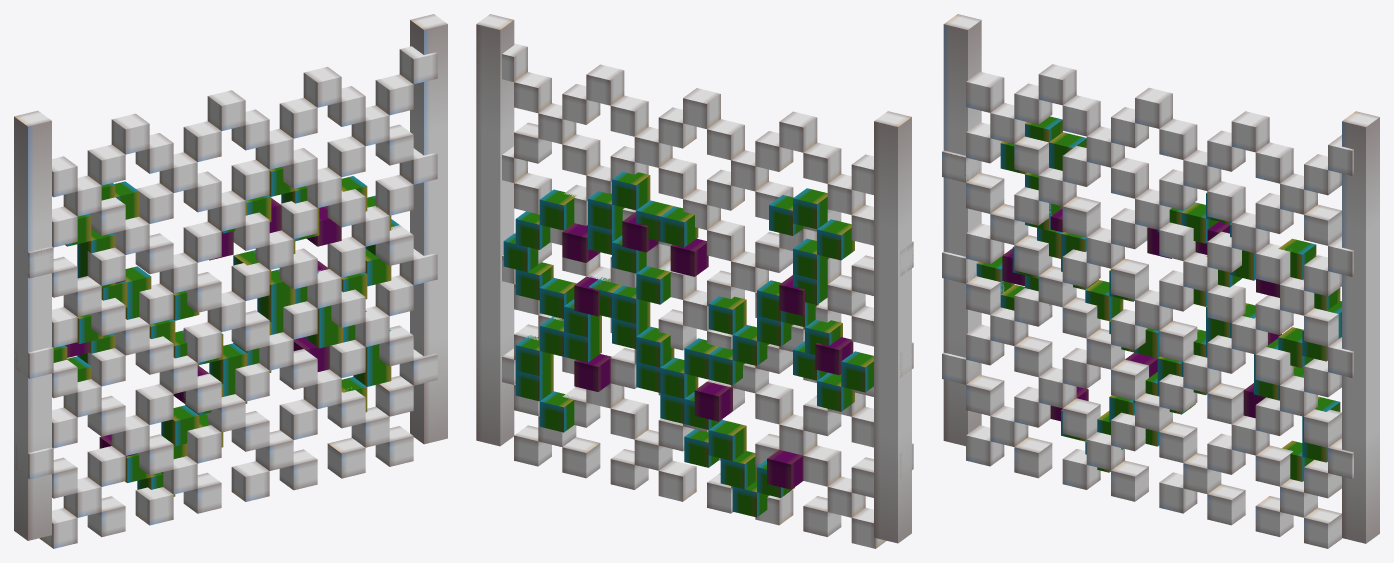
Rendered from Vinograd.fbx.
3 renders of one model, left to right at view 1: azimuth 30°, elevation 25°; view 2: azimuth 150°, elevation 25°; view 3: azimuth 330°, elevation 25°, orthographic.
Visible parts, largest first — view 1: cube_1, cube, cube_42, cube_33, cube_35, cube_74, cube_101, cube_47, cube_48, cube_67, cube_68, cube_44 (+100 smaller); view 2: cube_1, cube, cube_3, cube_35, cube_67, cube_68, cube_100, cube_42, cube_48, cube_101, cube_105, cube_44 (+109 smaller); view 3: cube, cube_1, cube_8, cube_67, cube_94, cube_95, cube_29, cube_30, cube_47, cube_98, cube_10, cube_18 (+97 smaller).
Part boxes in pixels (x1,y1,x2,y2): cube_1: [14, 110, 51, 540]; cube: [410, 14, 447, 444]; cube_42: [135, 384, 173, 424]; cube_33: [375, 74, 413, 115]; cube_35: [327, 136, 365, 177]; cube_74: [375, 174, 413, 215]; cube_101: [231, 461, 269, 501]; cube_47: [303, 66, 341, 107]; cube_48: [279, 97, 317, 138]; cube_67: [111, 113, 149, 154]; cube_68: [87, 144, 125, 185]; cube_44: [87, 446, 125, 486]; cube_1: [874, 111, 911, 543]; cube: [476, 14, 514, 446]; cube_3: [562, 437, 600, 478]; cube_35: [562, 134, 600, 175]; cube_67: [779, 111, 817, 152]; cube_68: [803, 142, 841, 183]; cube_100: [610, 398, 648, 439]; cube_42: [755, 383, 793, 424]; cube_48: [610, 95, 648, 136]; cube_101: [658, 460, 696, 501]; cube_105: [708, 420, 746, 460]; cube_44: [803, 445, 841, 486]; cube: [1342, 111, 1379, 543]; cube_1: [943, 14, 981, 446]; cube_8: [1207, 484, 1245, 525]; cube_67: [1038, 64, 1076, 105]; cube_94: [1159, 119, 1197, 159]; cube_95: [1207, 181, 1245, 222]; cube_29: [1014, 437, 1052, 478]; cube_30: [966, 374, 1004, 415]; cube_47: [1231, 111, 1269, 152]; cube_98: [1255, 142, 1293, 183]; cube_10: [1159, 422, 1197, 462]; cube_18: [966, 172, 1004, 213].
Bounding box in the file's own units: 219 × 212 × 23.44.
